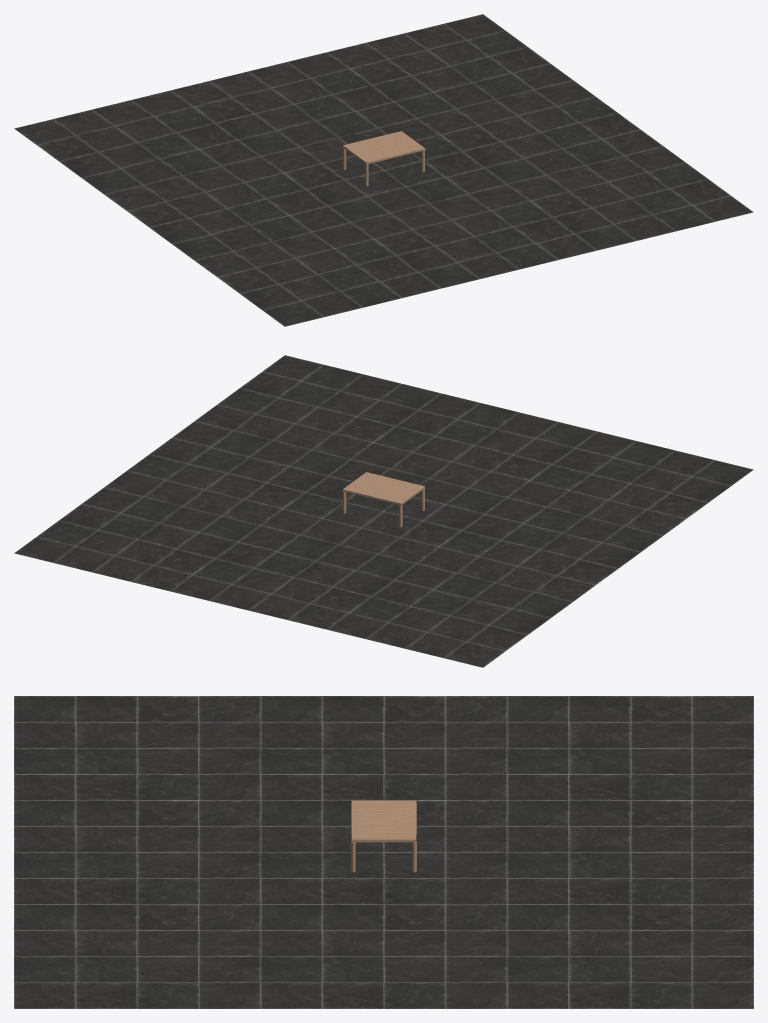
Rendered from mesa_carpintero.glb.
The picture shows the model from 3 angles, top to bottom: view 1: azimuth 30°, elevation 25°; view 2: azimuth 150°, elevation 25°; view 3: azimuth 270°, elevation 25°; orthographic projection. The views are drawn at different scales.
Visible parts, largest first — view 1: Suelo; view 2: Suelo; view 3: Suelo, Tabla_5, Tabla_2, Tabla_1, Tabla_3, Tabla_4.
Part boxes in pixels (box(x1,y1,x2,y2)): Suelo: box(14, 14, 753, 326); Suelo: box(14, 355, 753, 667); Suelo: box(14, 696, 753, 1008); Tabla_5: box(351, 832, 416, 842); Tabla_2: box(351, 808, 416, 816); Tabla_1: box(351, 800, 416, 808); Tabla_3: box(351, 816, 416, 823); Tabla_4: box(351, 824, 416, 831).
Size of the model in its own units: 8 by 0.73 by 8.
3 materials, 3 textured.
